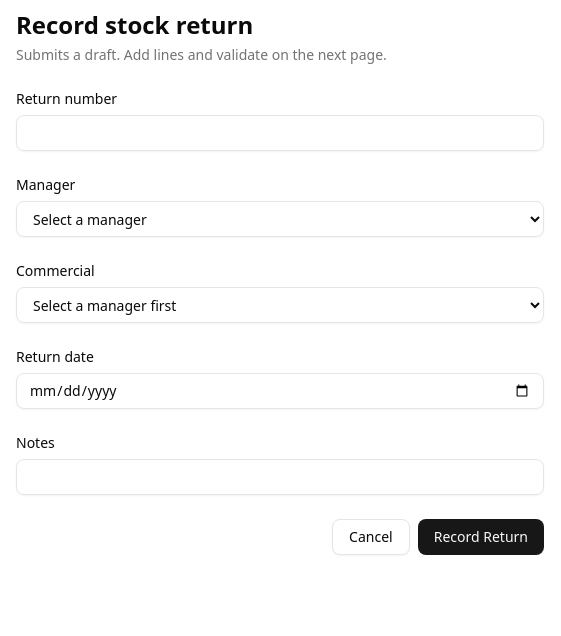
Test: failure preserves entered values › shows a general error and does not navigate on a server failure
The image size is (561, 636).
Type "RET-900" into the field labelled "Return number" at (280, 133), box [16,115,544,151]
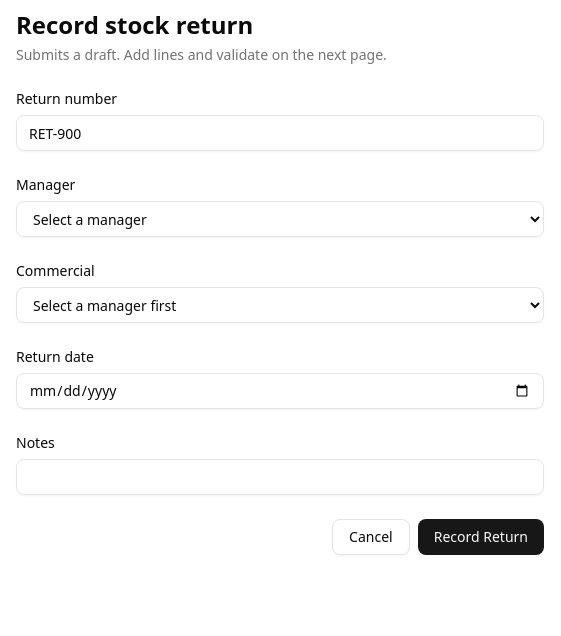
Select "Youssef Bennani" in the dropdown labelled "Manager" at (280, 219), box [16,201,544,237]
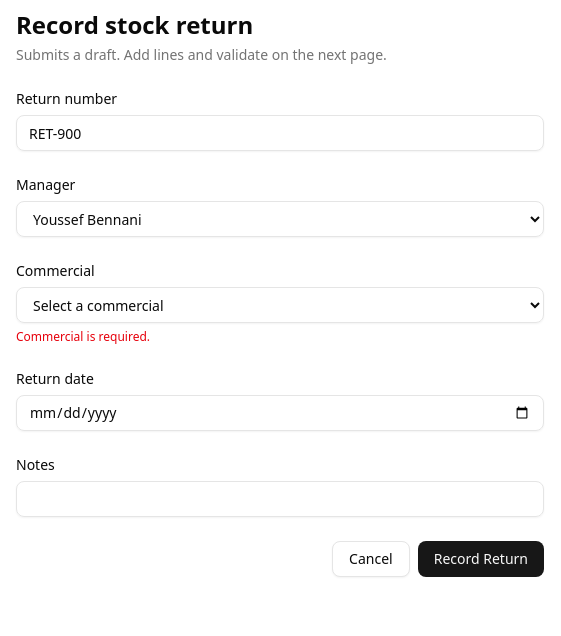
Select "Sara Alaoui" in the dropdown labelled "Commercial" at (280, 305), box [16,287,544,323]
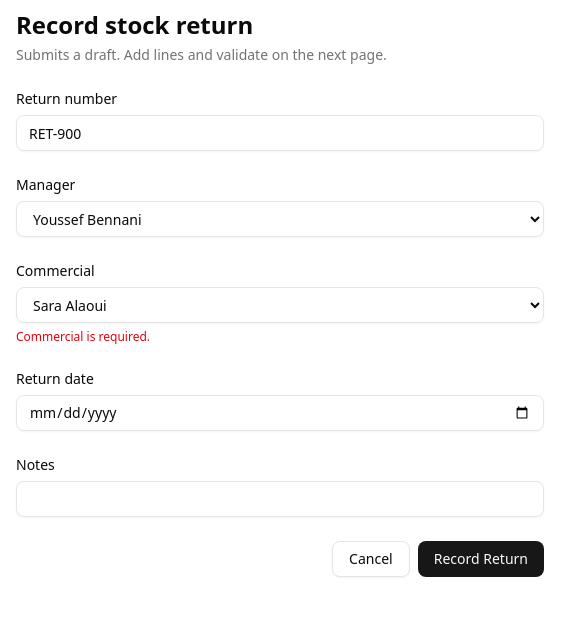
Click the button "Record Return" at (481, 559), box [418,541,544,577]
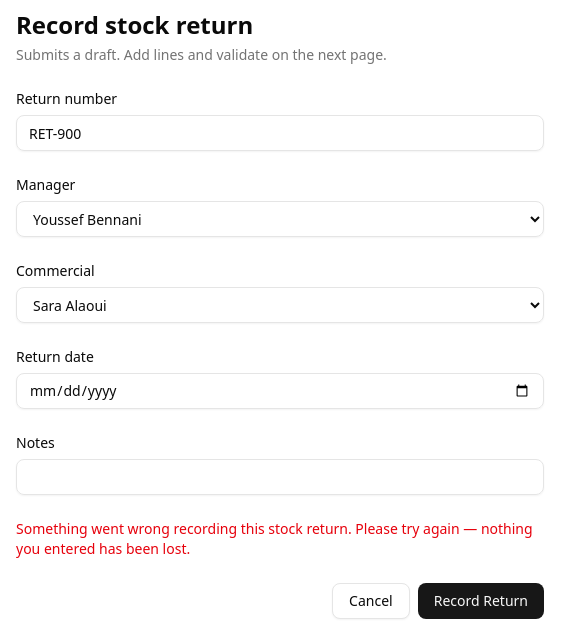
Expected: the text "Something went wrong recording this stock return" is shown, [16,519,533,558]
